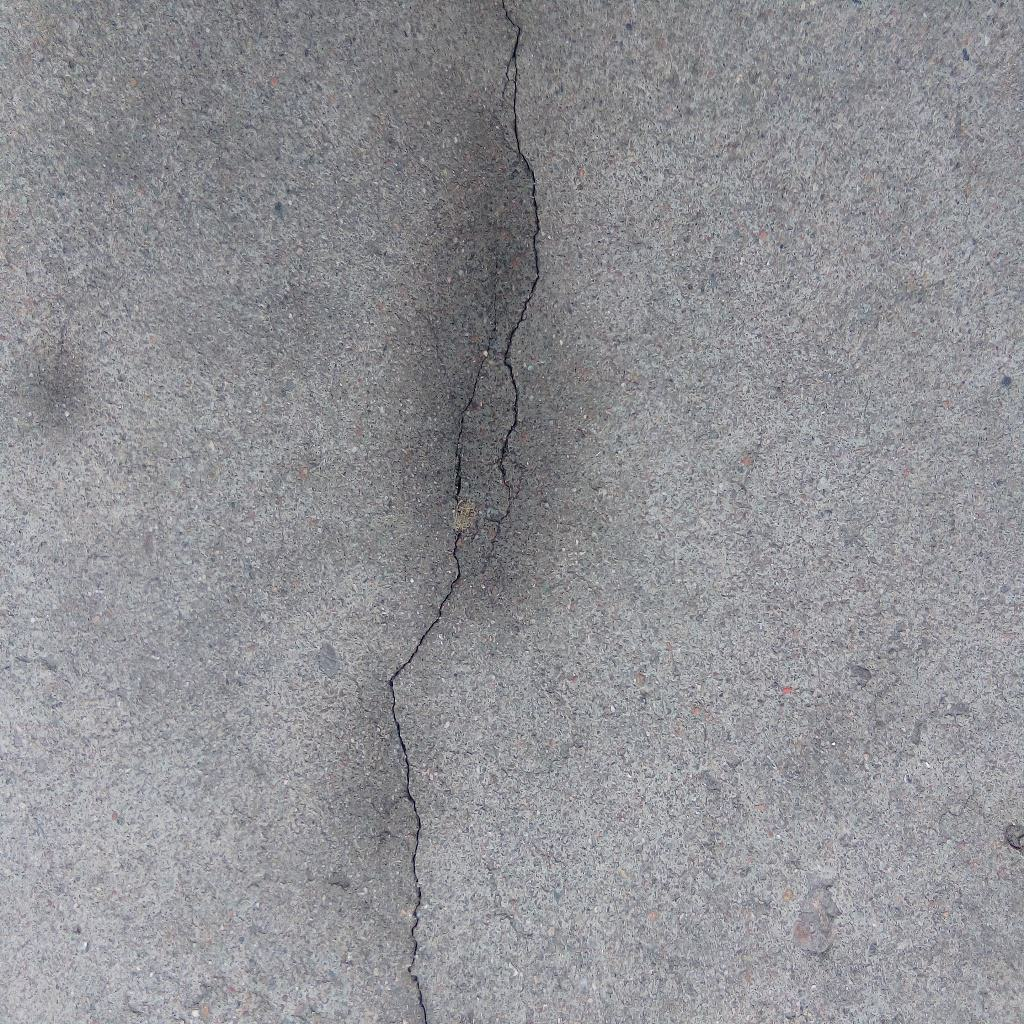Crack: (388, 292, 498, 1024), (481, 1, 541, 576)
